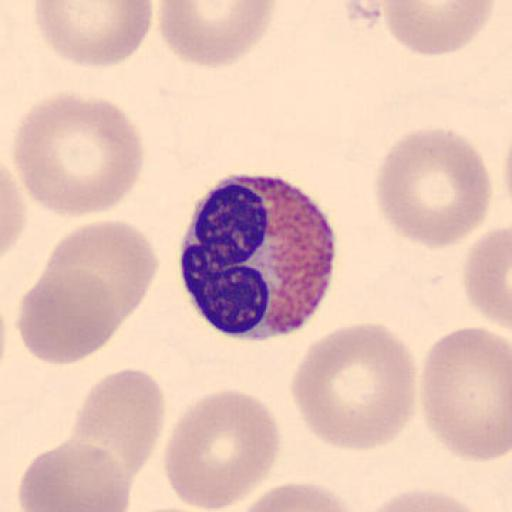RBC: (9, 90, 146, 219), (290, 321, 418, 453), (372, 127, 494, 250), (163, 388, 281, 512), (419, 324, 512, 463), (43, 218, 160, 321), (69, 367, 167, 478), (16, 266, 122, 366), (17, 438, 133, 512), (33, 0, 155, 69), (156, 0, 274, 69), (379, 0, 495, 56), (462, 226, 512, 330), (233, 481, 369, 512), (359, 486, 494, 512), (1, 161, 26, 259), (121, 503, 216, 512)
WBC: (176, 174, 340, 344)
